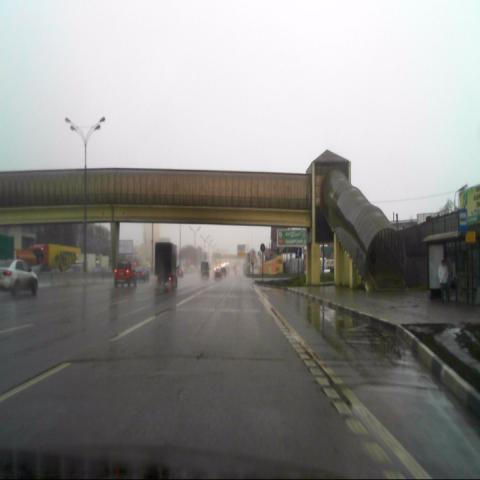5_16: (458, 209, 467, 233)
